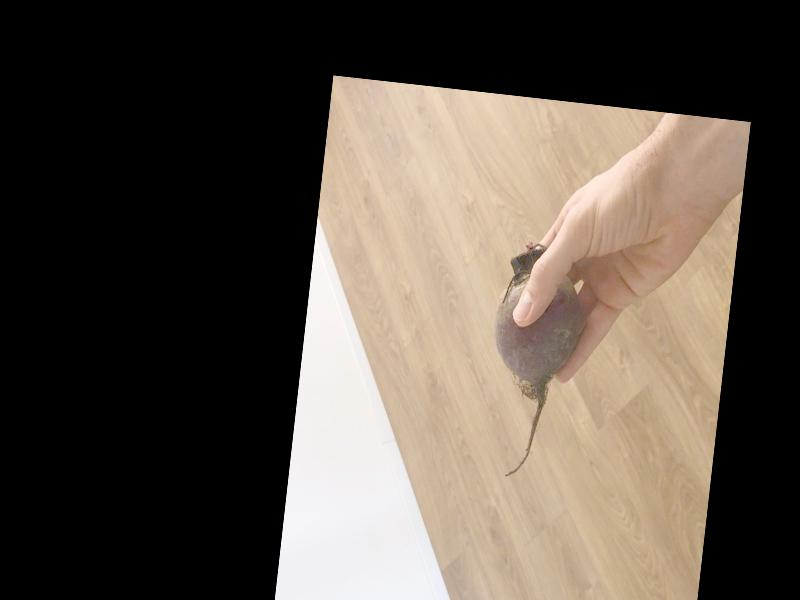Beet: (479, 240, 588, 483)
